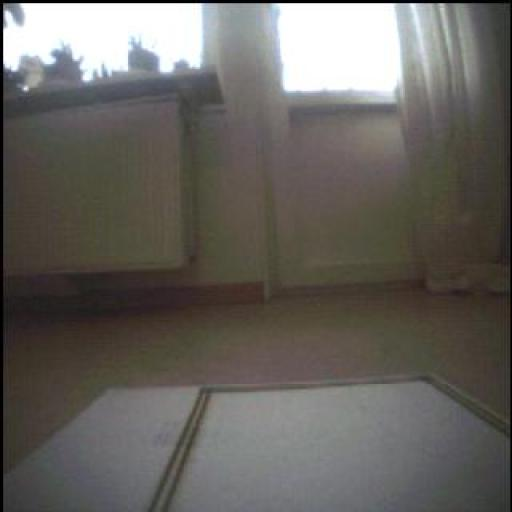Pad: (163, 367, 507, 512)
